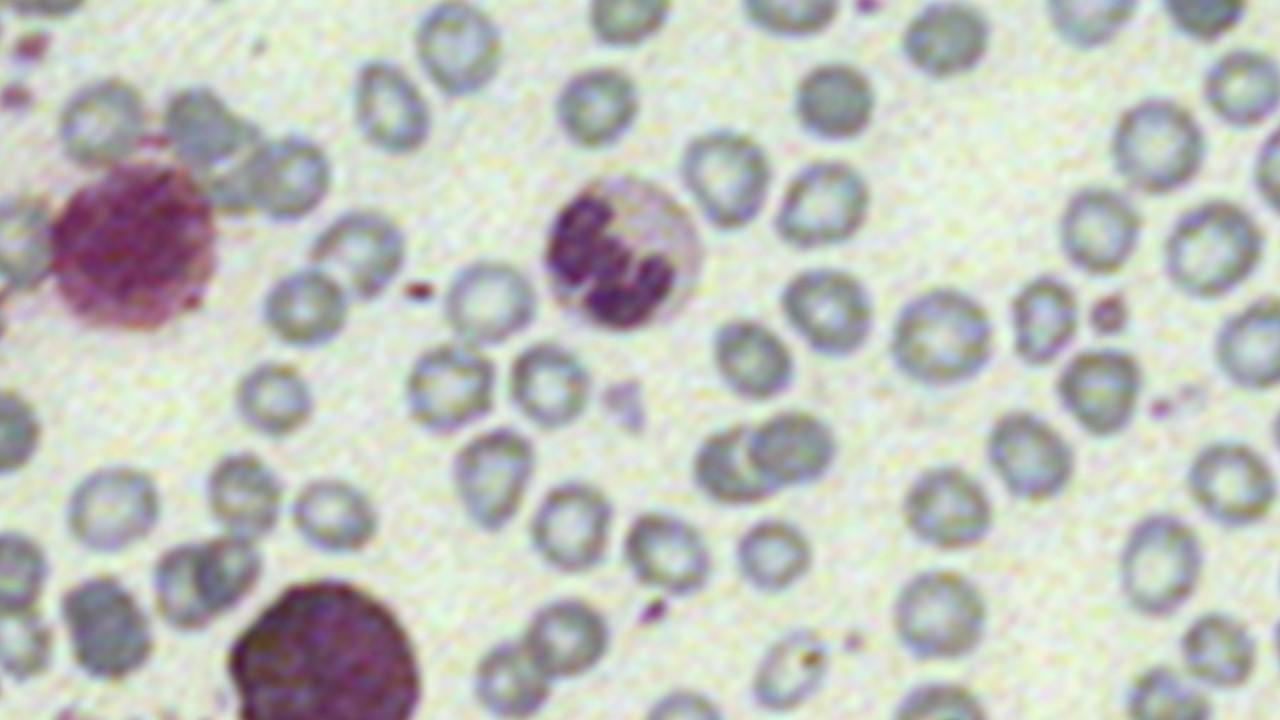RBC: (882, 284, 996, 394), (1157, 196, 1265, 305), (1104, 90, 1210, 198), (886, 561, 991, 669), (1112, 506, 1208, 623), (764, 153, 874, 255), (57, 571, 155, 685), (61, 457, 166, 560), (777, 260, 879, 364), (524, 474, 618, 581), (1051, 178, 1147, 281), (1181, 434, 1279, 534), (1049, 341, 1145, 442), (619, 504, 715, 600), (520, 589, 616, 685), (742, 619, 836, 717), (258, 262, 353, 353), (744, 405, 843, 492), (1195, 42, 1280, 132), (1211, 290, 1280, 397), (1, 579, 58, 684), (1, 516, 55, 616), (1, 379, 46, 482), (1248, 112, 1280, 232)
WBC: (532, 164, 711, 342)
